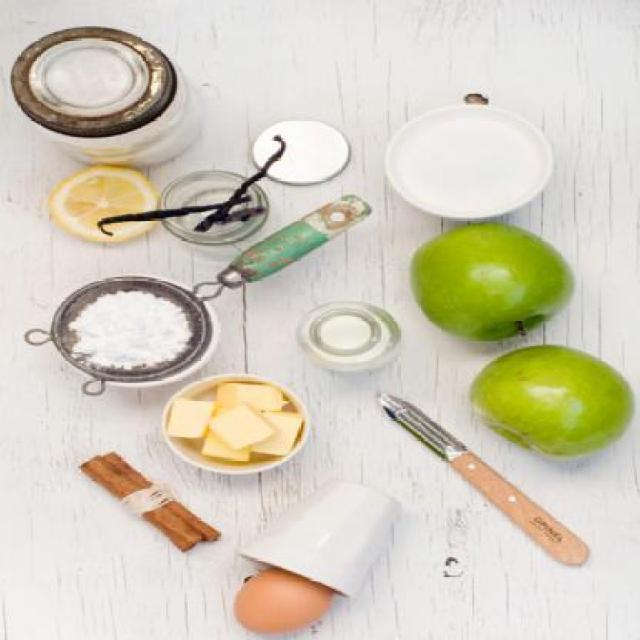Lemon: (50, 167, 164, 244)
